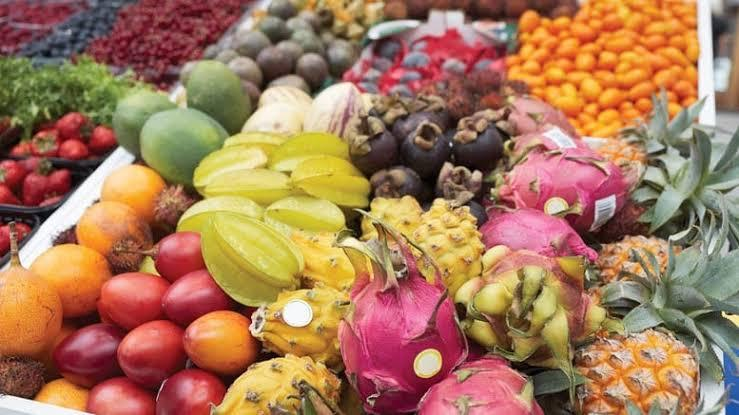mang_cut: (397, 122, 448, 180), (452, 115, 502, 172)
thanh_long: (342, 230, 462, 412), (502, 148, 630, 229)
